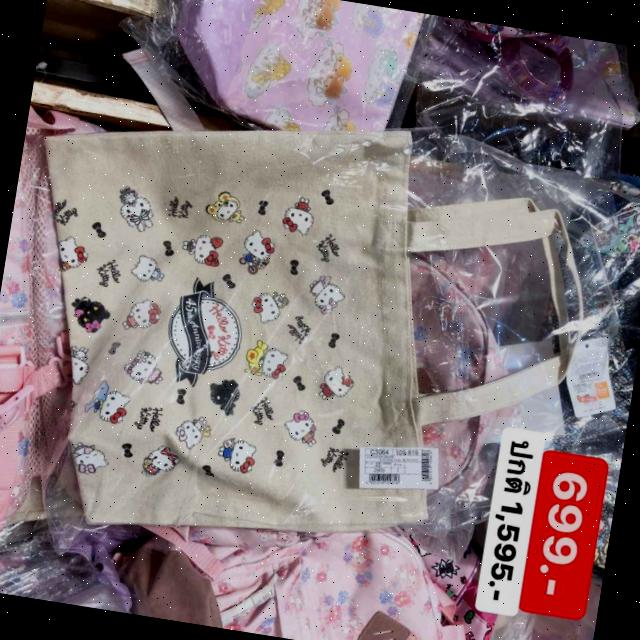Handbag: (0, 58, 486, 571)
